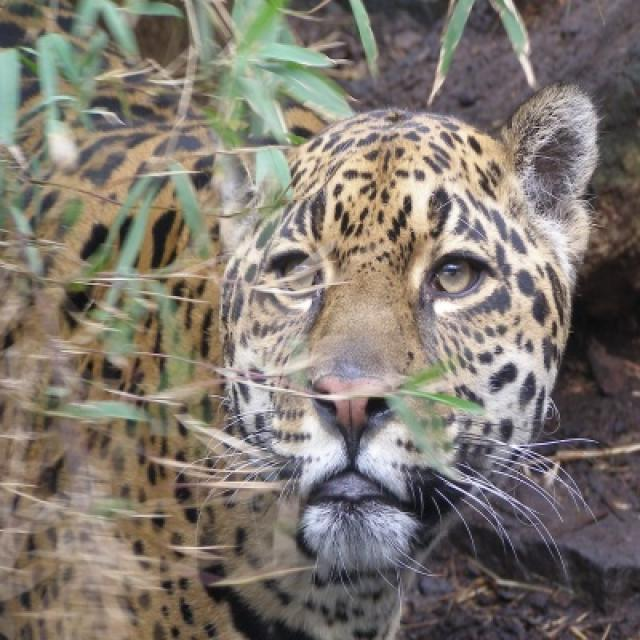Jaguar: (0, 6, 589, 638)
